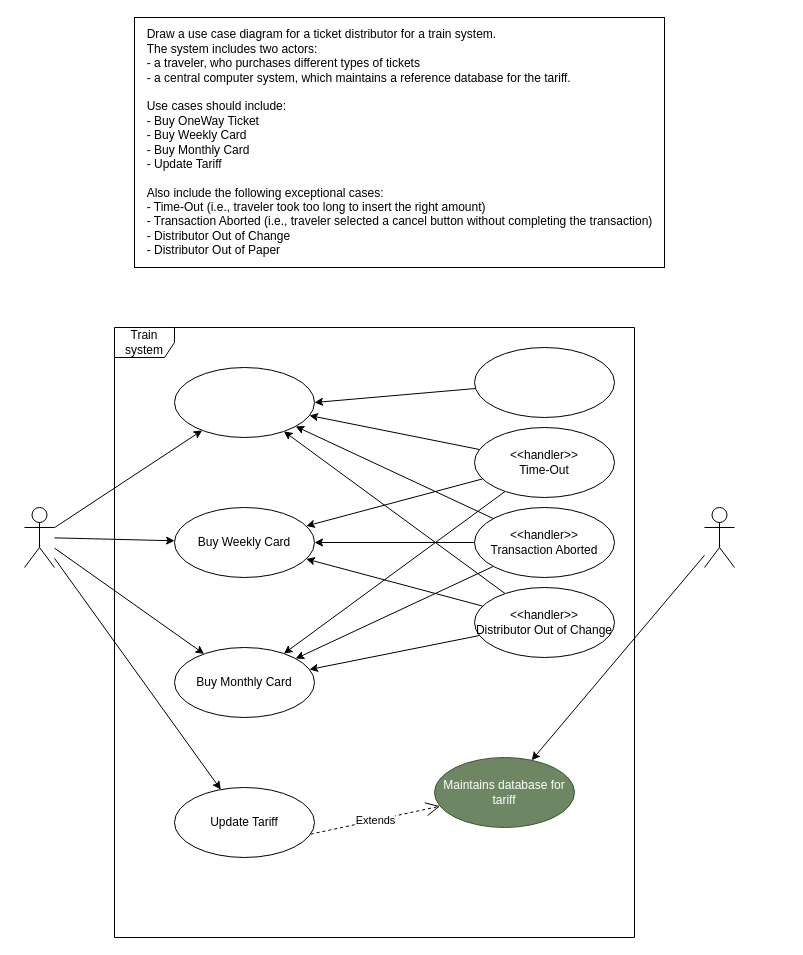
The diagram is 803 pixels wide and 955 high, and some of its shapes have lost their labels. Here are the shapes that lost their labels. From the top down, the centre of each, then its label:
[244,402]: Buy OneWay Ticket
[544,382]: <<handler>> Distributor Out of Paper
[39,537]: Traveler
[719,537]: Central computer system
